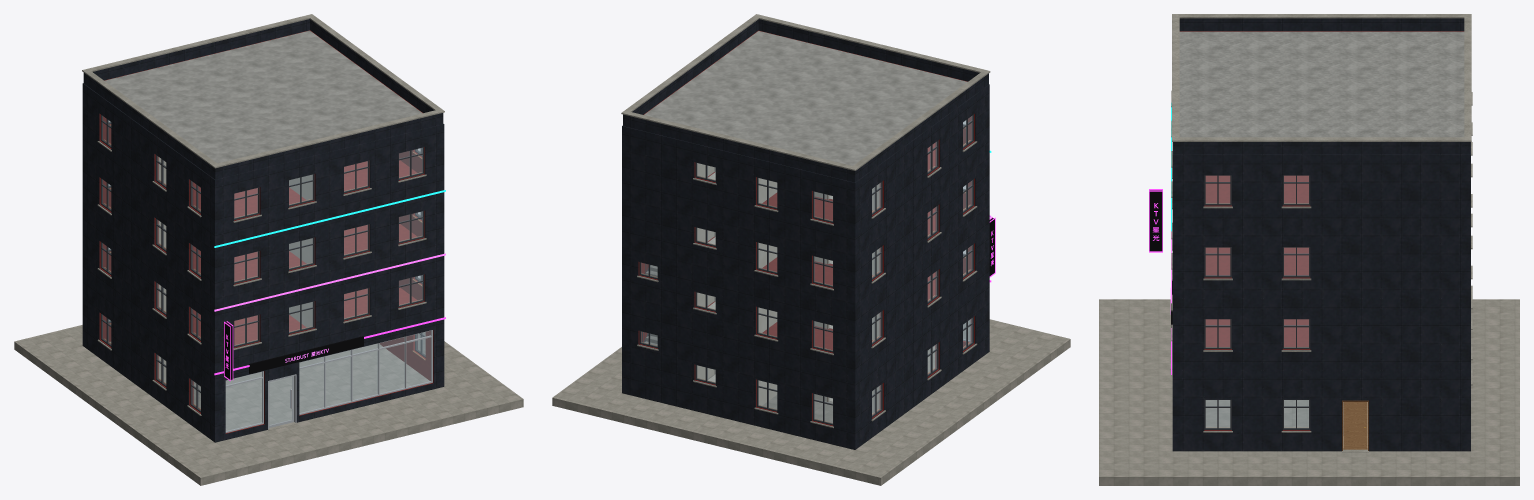
File: b_karaoke_stardust.gltf
3 views of the same model, side by side, from view 1: azimuth 30°, elevation 25°; view 2: azimuth 150°, elevation 25°; view 3: azimuth 270°, elevation 25° (orthographic). The views are drawn at different scales.
Visible parts, largest first — view 1: S_karaoke_stardust, D_karaoke_stardust_F1_S2_Door0; view 2: S_karaoke_stardust; view 3: S_karaoke_stardust, D_karaoke_stardust_F1_E2_Door0.
Part boxes in pixels (bbox=[...]): S_karaoke_stardust: bbox=[14, 14, 523, 485]; D_karaoke_stardust_F1_S2_Door0: bbox=[269, 376, 293, 427]; S_karaoke_stardust: bbox=[552, 14, 1070, 485]; S_karaoke_stardust: bbox=[1099, 14, 1519, 485]; D_karaoke_stardust_F1_E2_Door0: bbox=[1343, 402, 1367, 449].
Bounding box in the file's own units: 17 × 14.26 × 17.
Materials: 21 (10 with a texture image).
